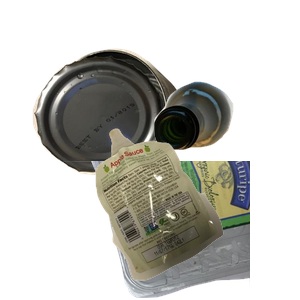glass: (151, 79, 300, 221)
metal: (30, 46, 205, 215)
plastic: (23, 161, 263, 300)
trash: (93, 126, 300, 300)
